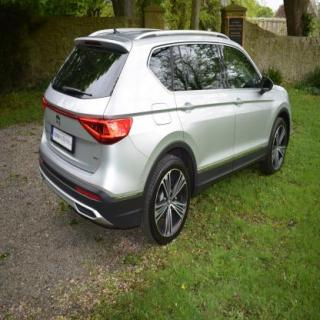Normal_vehicle: (38, 28, 292, 244)
